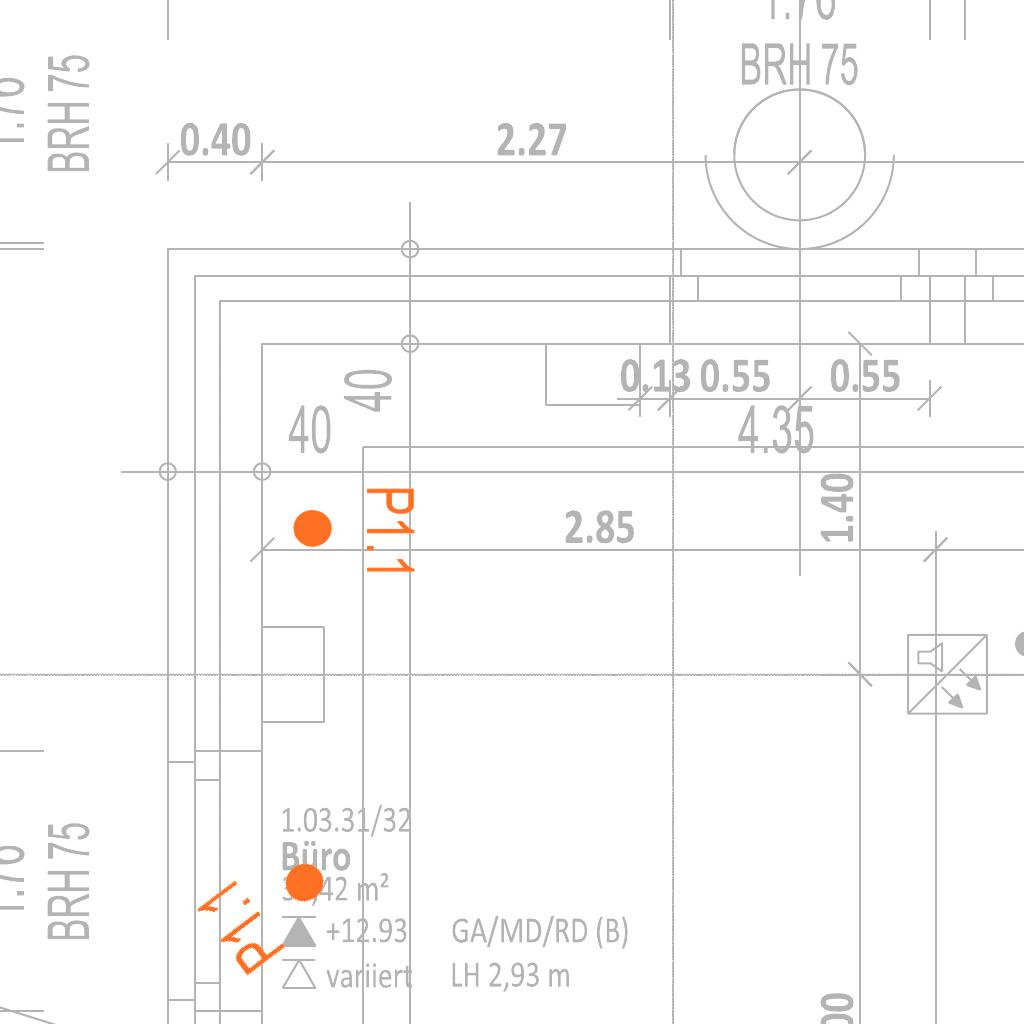Downlight_LED_Einbauleuchten_Flur: (190, 829, 349, 981), (290, 485, 418, 578)
